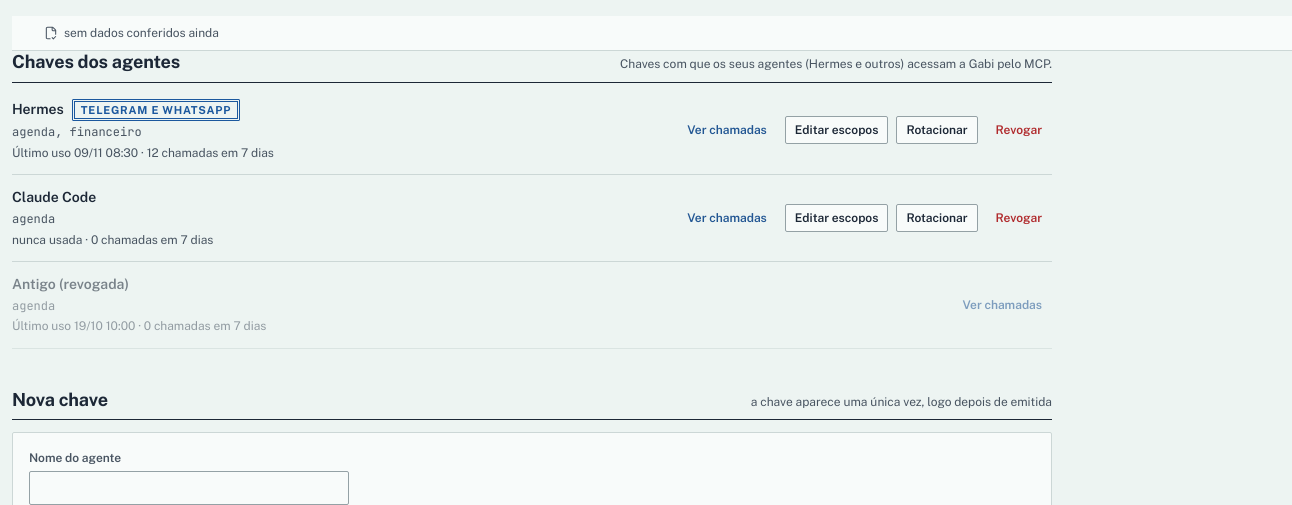
Scenario: rotacionar e revogar a chave do Hermes pedem confirmação reforçada
(page scrolled)
Expected: the text "Hermes" is shown, [12,100,64,120]
Click the button with aria-label "Revogar Hermes". click: (1019, 130)
box: [986,116,1052,144]
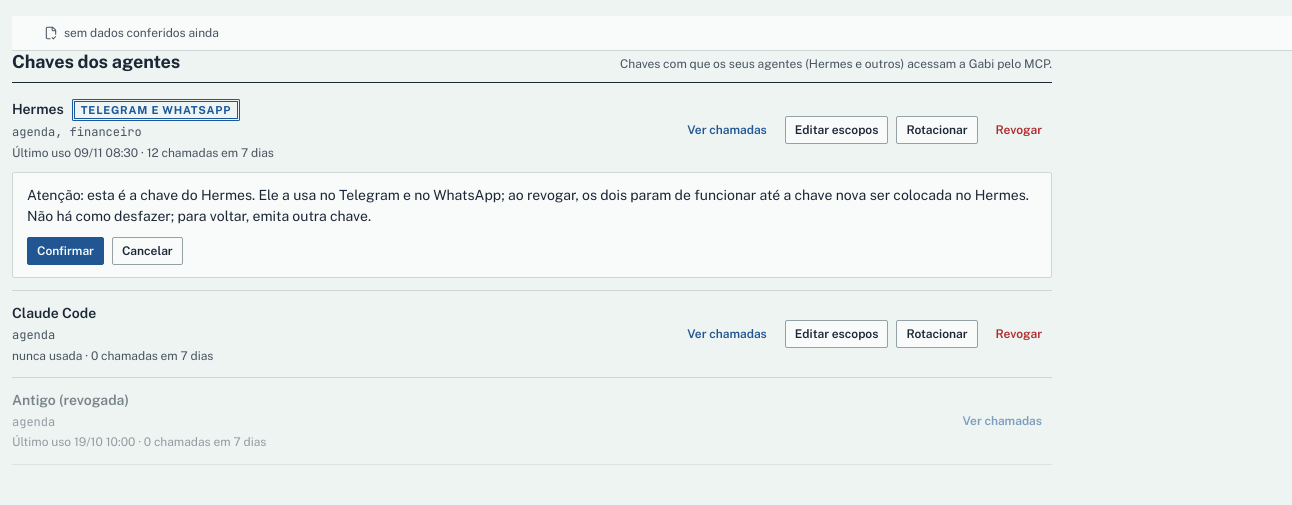
Result: the 2nd message shows "Telegram e no WhatsApp" at [27,187,1029,203]
Click the button with aria-label "Rotacionar Hermes". click: (937, 130)
box: [896,116,978,144]
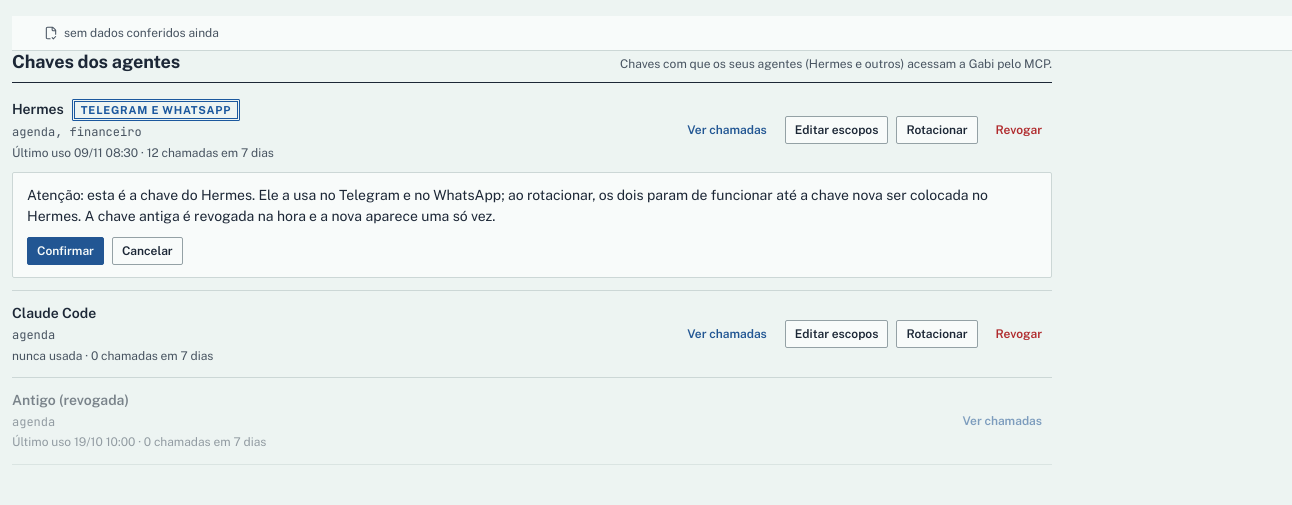
Result: the 2nd message shows "Telegram e no WhatsApp" at [27,187,988,224]
Click the button with aria-label "Confirmar rotacionar Hermes". click: (65, 251)
box: [27,237,104,265]
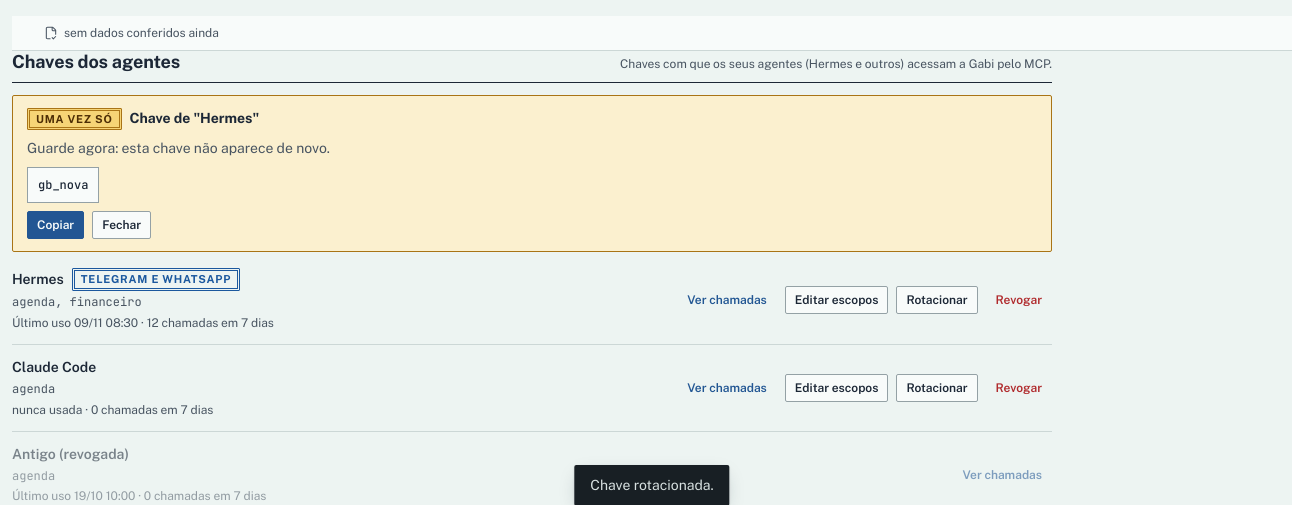
Result: the text "gb_nova" is shown at [27,167,99,203]
